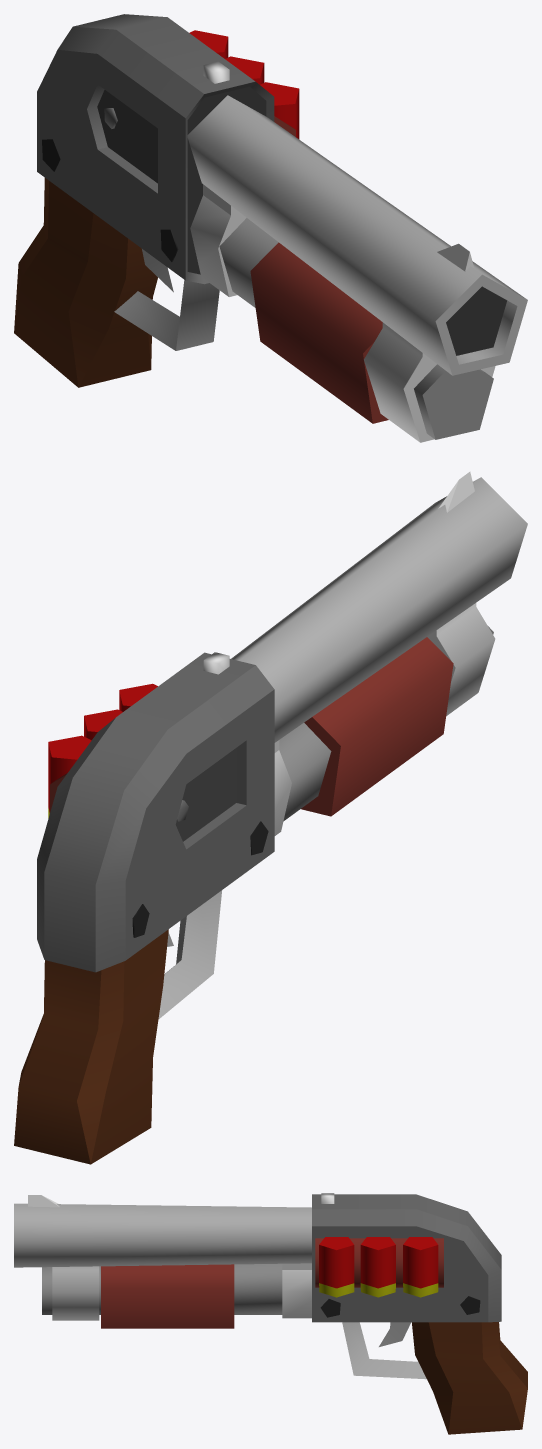
The model's file is ShotGun01.glb.
The picture shows the model from 3 angles, top to bottom: view 1: azimuth 30°, elevation 25°; view 2: azimuth 150°, elevation 25°; view 3: azimuth 270°, elevation 25°; orthographic projection. The views are drawn at different scales.
Parts seen in each view (by area): view 1: ShotGun; view 2: ShotGun; view 3: ShotGun.
Part boxes in pixels (left/top/right/bottom): ShotGun: left=14, top=14, right=527, bottom=442; ShotGun: left=14, top=471, right=527, bottom=1164; ShotGun: left=14, top=1193, right=527, bottom=1434.
Size of the model in its own units: 0.1679 by 0.4564 by 0.9271.
1 material, 1 textured.
